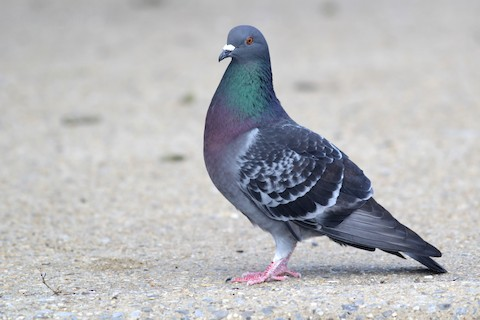pigeon: (200, 22, 452, 286)
